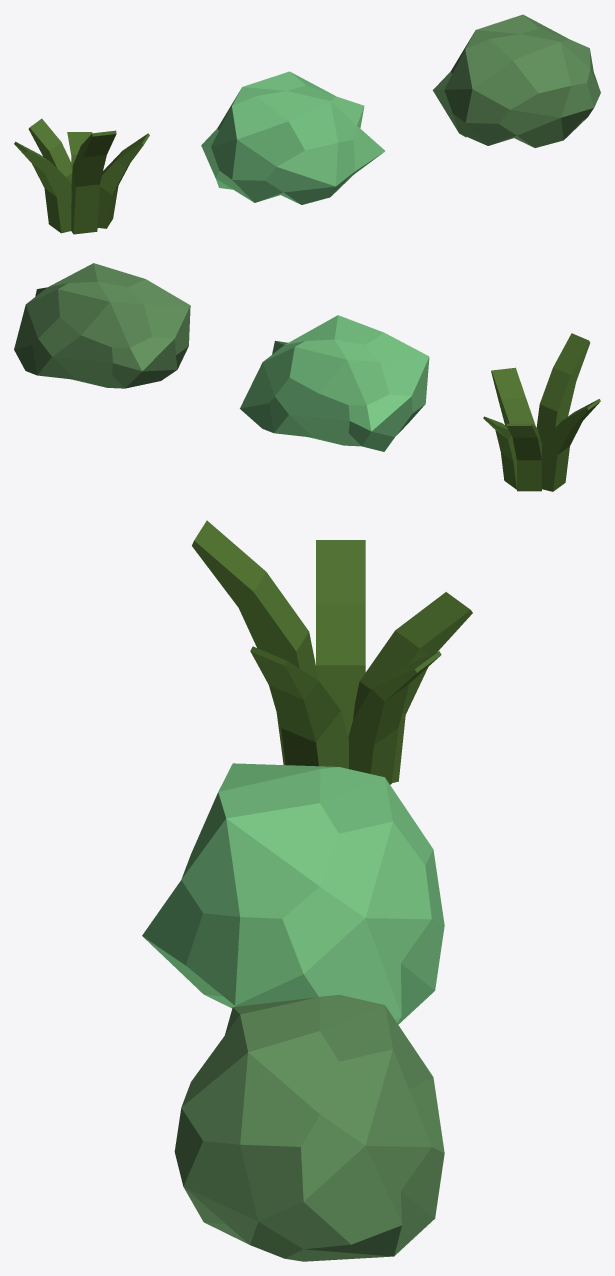
File: Bushes.fbx
The picture shows the model from 3 angles, top to bottom: view 1: azimuth 30°, elevation 25°; view 2: azimuth 150°, elevation 25°; view 3: azimuth 270°, elevation 25°; orthographic projection. The views are drawn at different scales.
Visible parts, largest first — view 1: Bush_03, Bush_05, Bush_04; view 2: Bush_03, Bush_05, Bush_04; view 3: Bush_05, Bush_03, Bush_04.
Part boxes in pixels (x1,y1,x2,y2): Bush_03: (201, 71, 385, 204); Bush_05: (432, 14, 600, 147); Bush_04: (14, 118, 149, 234); Bush_03: (240, 315, 429, 451); Bush_05: (14, 263, 190, 388); Bush_04: (483, 333, 600, 491); Bush_05: (174, 994, 444, 1261); Bush_03: (142, 763, 444, 1024); Bush_04: (192, 520, 472, 784).
Size of the model in its own units: 84.95 by 18.56 by 21.5.
